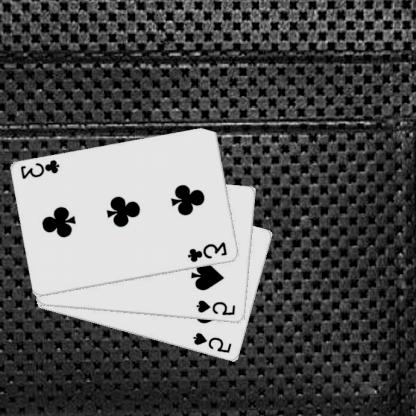3C: (187, 239, 230, 264), (20, 157, 63, 180)
5S: (192, 330, 235, 355), (196, 298, 239, 317)
